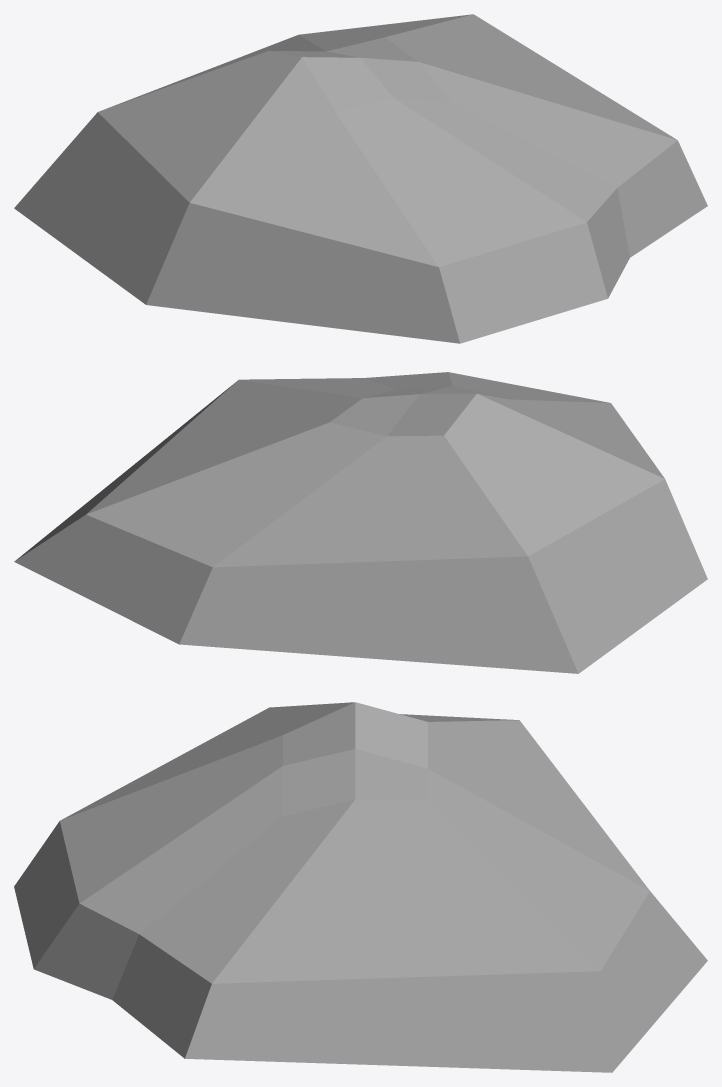
File: pedra.fbx
3 views of the same model, one above another, from view 1: azimuth 30°, elevation 25°; view 2: azimuth 150°, elevation 25°; view 3: azimuth 270°, elevation 25° (orthographic). The views are drawn at different scales.
Visible parts, largest first — view 1: Cube; view 2: Cube; view 3: Cube.
Boxes of the visible parts, x1,y1,x2,y2 form: Cube: [14, 14, 707, 343]; Cube: [14, 372, 707, 673]; Cube: [14, 702, 707, 1072].
Size of the model in its own units: 943 by 280 by 956.
Materials: 1 (1 with a texture image).
